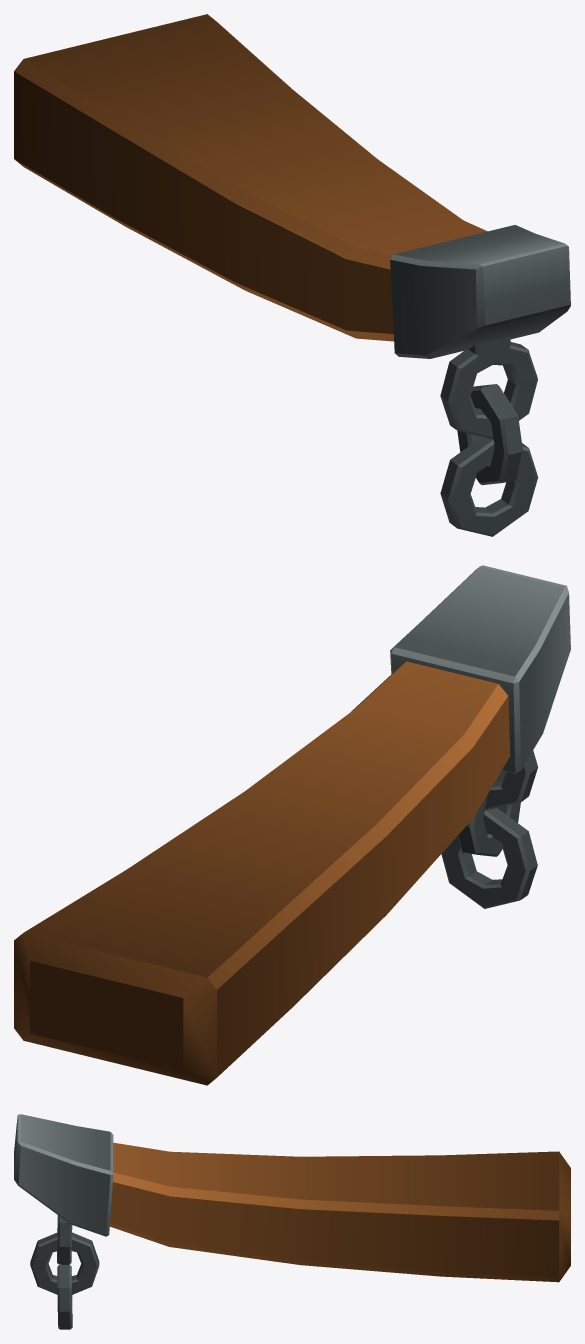
The model's file is Hook-3.fbx.
3 views of the same model, one above another, from view 1: azimuth 30°, elevation 25°; view 2: azimuth 150°, elevation 25°; view 3: azimuth 270°, elevation 25° (orthographic). The views are drawn at different scales.
Parts seen in each view (by area): view 1: Hook-3; view 2: Hook-3; view 3: Hook-3.
Boxes of the visible parts, x1,y1,x2,y2 form: Hook-3: [14, 14, 570, 536]; Hook-3: [14, 565, 570, 1085]; Hook-3: [14, 1114, 570, 1329].
Size of the model in its own units: 59.21 by 85.04 by 213.
